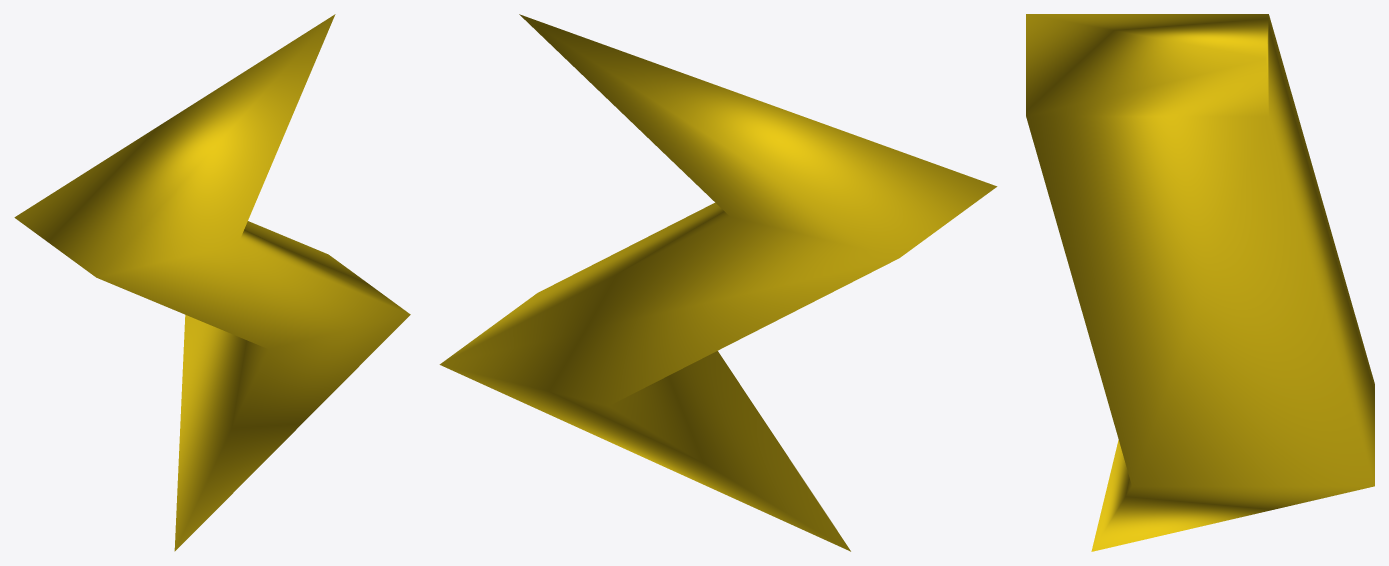
The model's file is p-up speed  .fbx.
The picture shows the model from 3 angles, left to right: view 1: azimuth 30°, elevation 25°; view 2: azimuth 150°, elevation 25°; view 3: azimuth 270°, elevation 25°; orthographic projection. The views are drawn at different scales.
Visible parts, largest first — view 1: Speed; view 2: Speed; view 3: Speed.
Boxes of the visible parts, left/top/right/bottom form: Speed: left=14, top=14, right=410, bottom=551; Speed: left=439, top=14, right=997, bottom=551; Speed: left=1026, top=14, right=1374, bottom=551.
Size of the model in its own units: 63.28 by 76.12 by 36.91.
